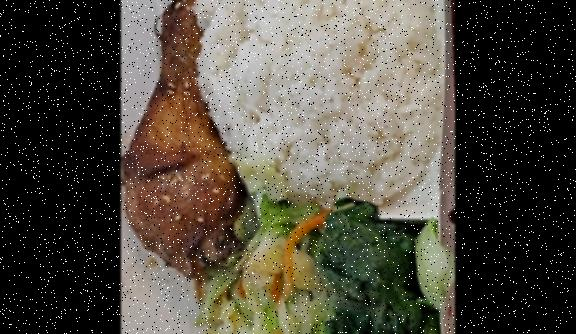box: (145, 0, 455, 334)
side dish: (315, 192, 446, 334), (241, 199, 327, 334), (195, 259, 250, 334)
small grilled chicken leg: (122, 0, 248, 274)
white rice: (199, 0, 436, 206)
